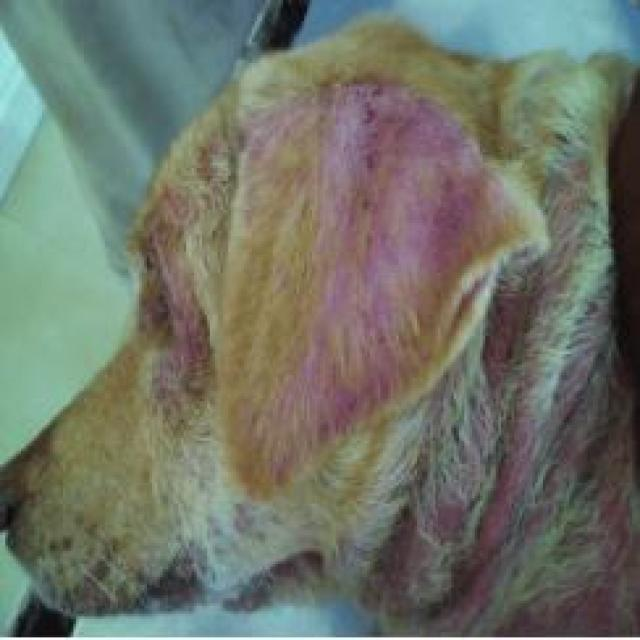allergic dermatitis: (248, 101, 472, 272), (374, 437, 522, 615), (501, 469, 640, 640), (288, 249, 428, 395), (478, 281, 602, 444), (158, 190, 216, 370)
